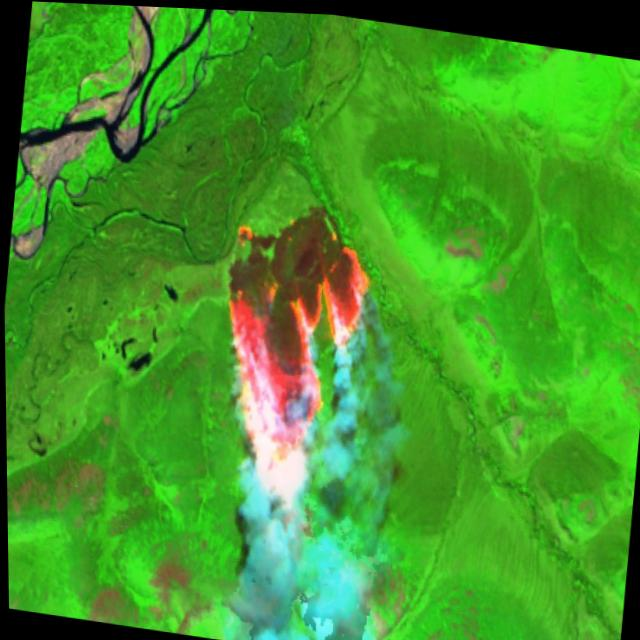fire: (199, 196, 380, 515)
